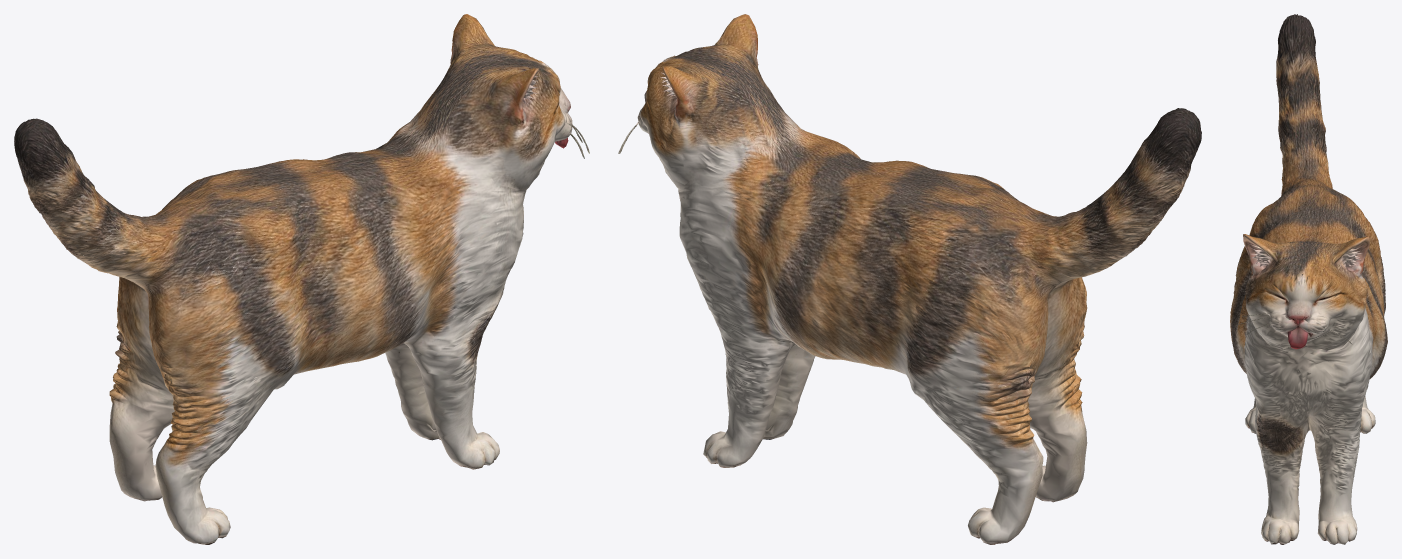
File: BLEHMILLY.glb
3 renders of one model, left to right at view 1: azimuth 30°, elevation 25°; view 2: azimuth 150°, elevation 25°; view 3: azimuth 270°, elevation 25°, orthographic. The views are drawn at different scales.
Parts seen in each view (by area): view 1: tripo_node_dee11508-eb11-41ef-82cd-93bb68c3ada4; view 2: tripo_node_dee11508-eb11-41ef-82cd-93bb68c3ada4; view 3: tripo_node_dee11508-eb11-41ef-82cd-93bb68c3ada4.
Boxes of the visible parts, x1,y1,x2,y2 form: tripo_node_dee11508-eb11-41ef-82cd-93bb68c3ada4: (14, 14, 589, 544); tripo_node_dee11508-eb11-41ef-82cd-93bb68c3ada4: (618, 14, 1201, 544); tripo_node_dee11508-eb11-41ef-82cd-93bb68c3ada4: (1230, 14, 1387, 544).
Size of the model in its own units: 1.32 by 0.9989 by 0.4024.
Materials: 1 (1 with a texture image).
